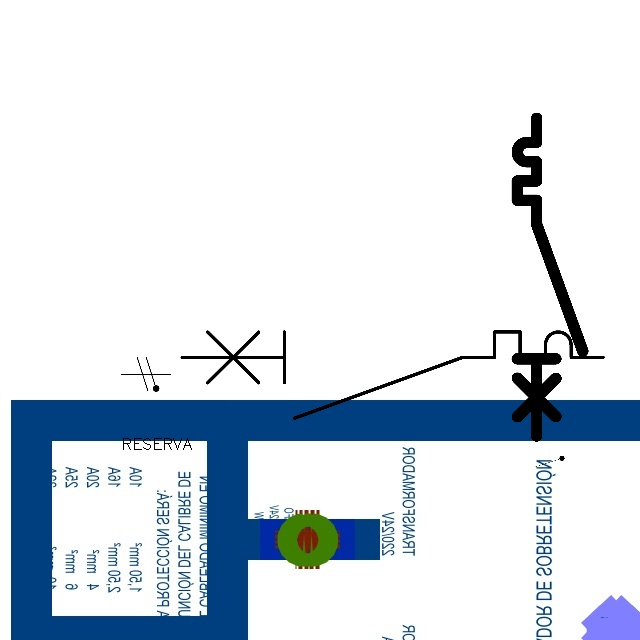interruptor_termomagnetico: (171, 321, 614, 429), (509, 110, 591, 444)
